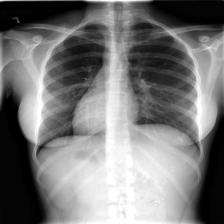normal: (31, 14, 207, 170)
